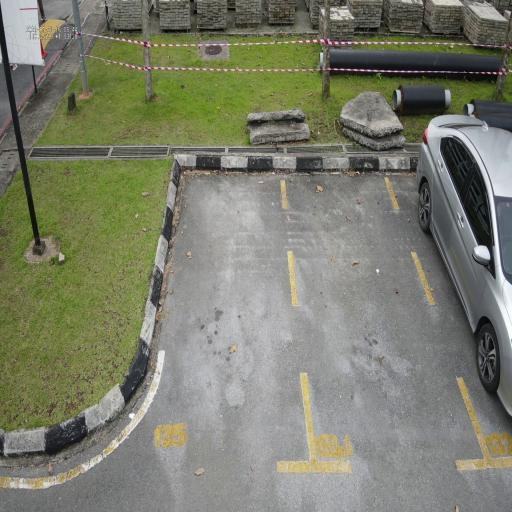Empty: (278, 155, 496, 480), (122, 156, 320, 483)
